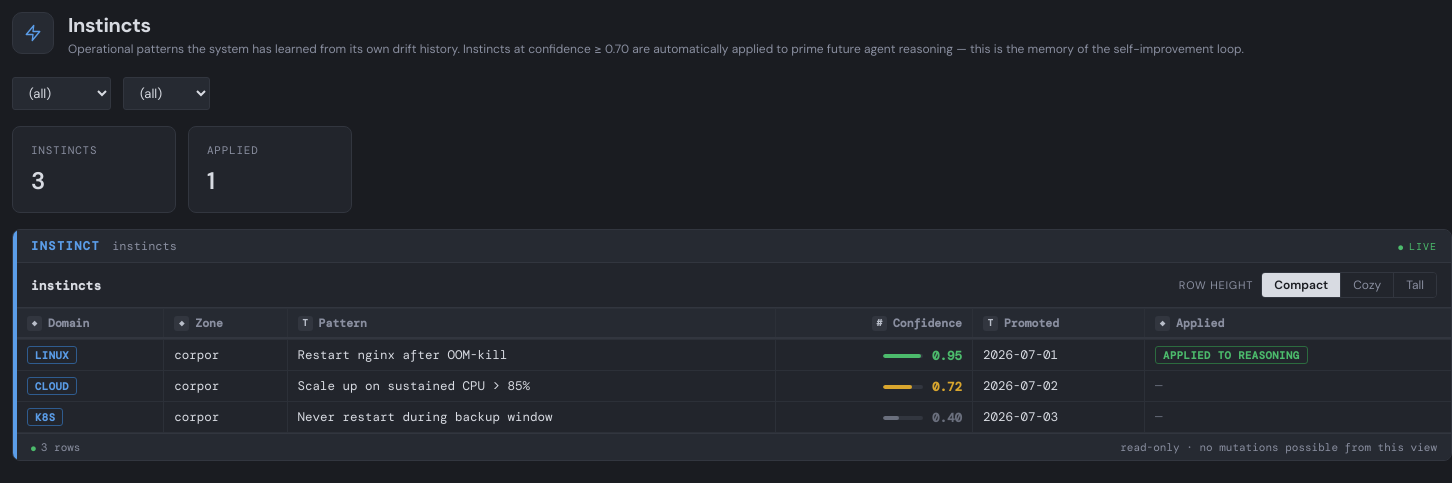
Scenario: Instincts page — Phase 3 design-system rebuild › shows a filter-zero EmptyState with a Clear filters action when a filter matches nothing
Expected: the text "Restart nginx after OOM-kill" is shown, [287,340,776,370]
Select "windows" in the 1st dropdown at (62, 94), box [12,77,111,110]
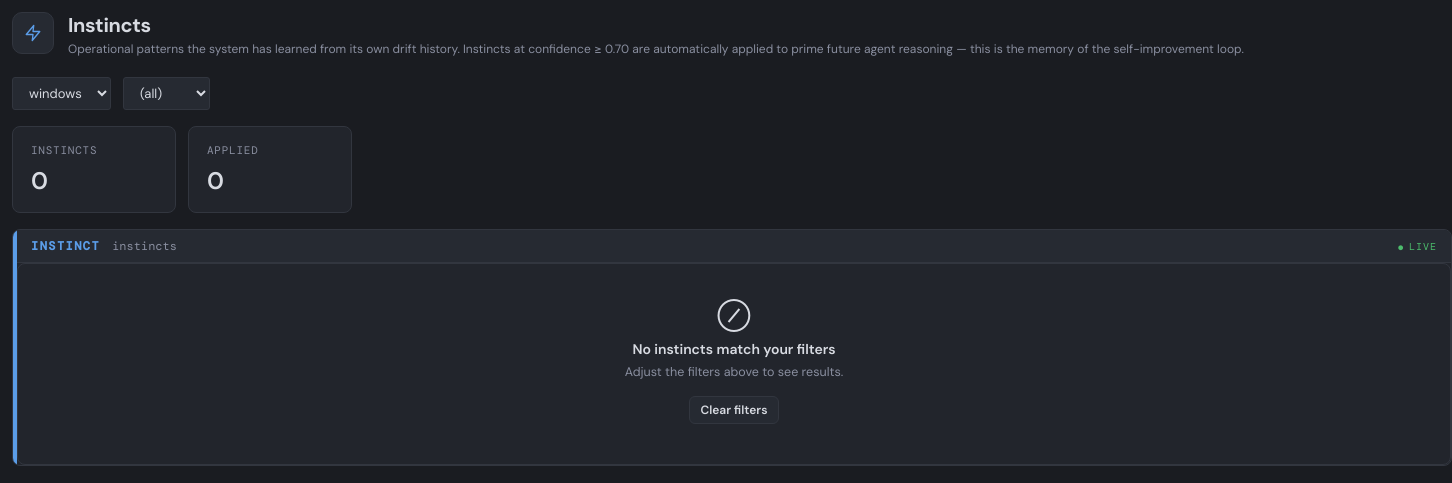
Expected: the text "No instincts match your filters" is shown, [632,340,836,358]
Expected: the button "Clear filters" is shown, [689,396,778,424]
